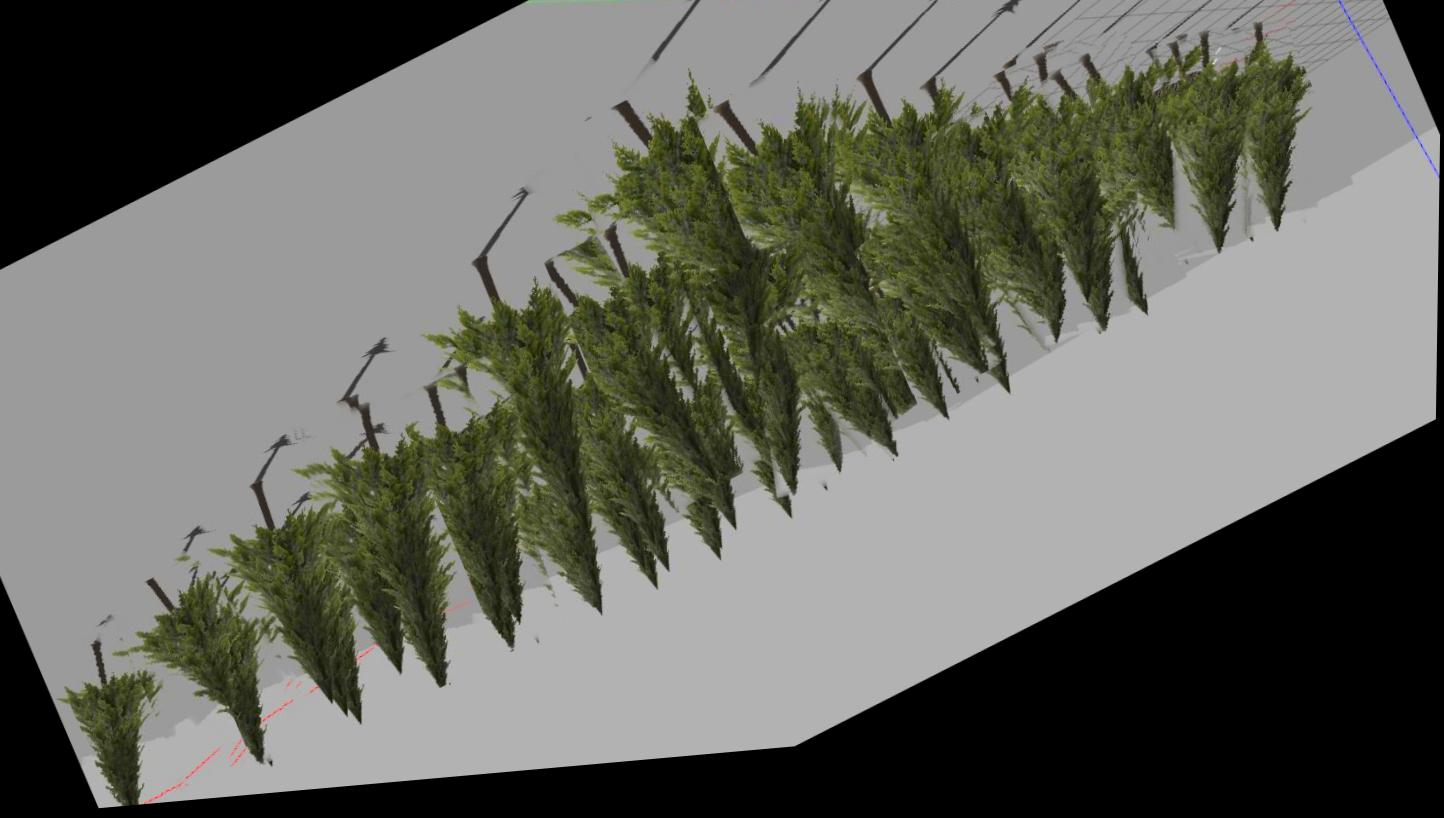tree_gazebo: (717, 112, 931, 404), (582, 98, 810, 368), (313, 406, 453, 695), (551, 266, 723, 498), (937, 128, 1075, 357), (417, 386, 526, 659), (1022, 68, 1117, 351), (1077, 74, 1199, 268), (131, 579, 272, 739), (68, 622, 160, 809), (863, 265, 992, 390), (1178, 53, 1249, 276), (1243, 45, 1311, 255), (783, 324, 884, 461), (762, 257, 810, 509), (877, 298, 950, 430), (234, 621, 270, 769), (844, 380, 899, 474), (923, 94, 953, 135)
